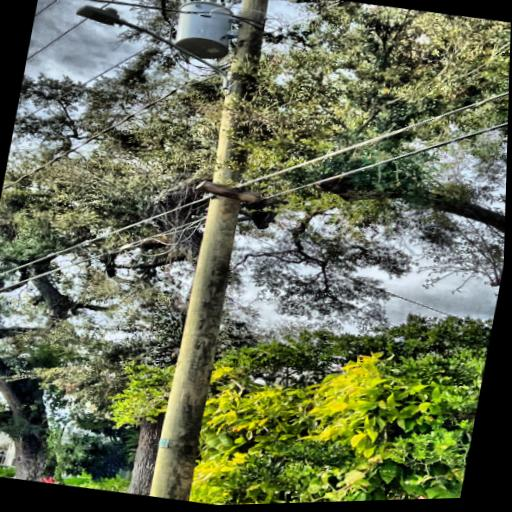pole: (138, 0, 297, 504)
street light: (58, 0, 246, 101)
transformer: (166, 0, 241, 67)
vegetation_encroachment: (122, 47, 379, 221)
